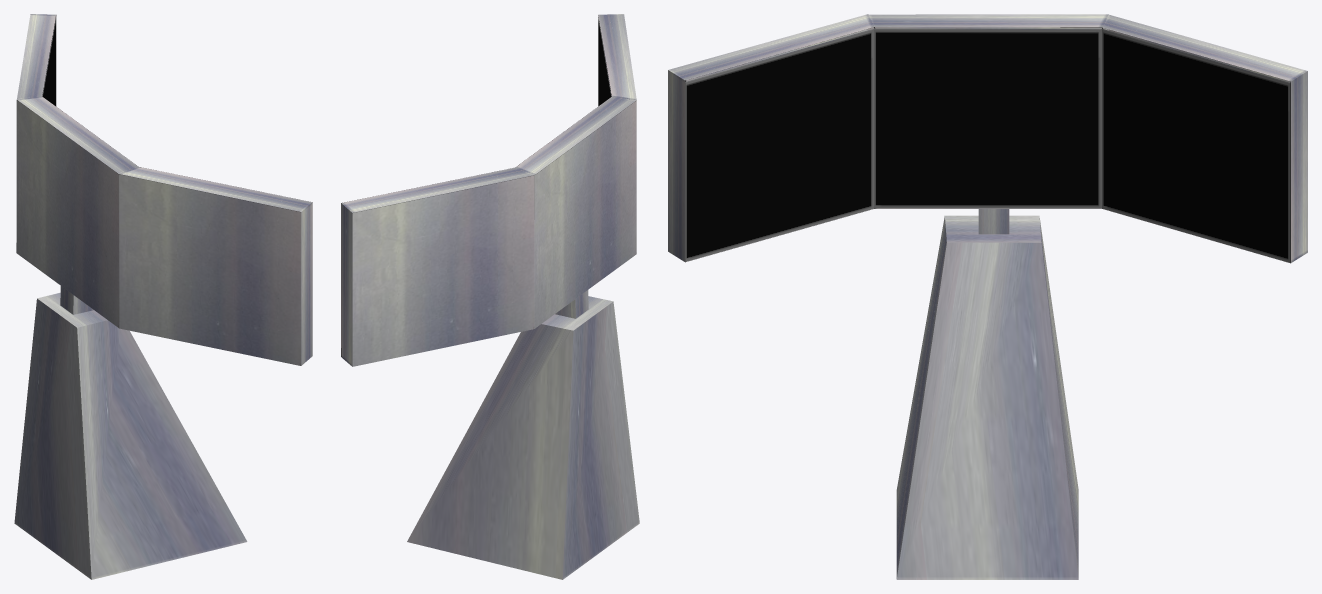
File: mainframe.fbx
3 renders of one model, left to right at view 1: azimuth 30°, elevation 25°; view 2: azimuth 150°, elevation 25°; view 3: azimuth 270°, elevation 25°, orthographic. The views are drawn at different scales.
Parts seen in each view (by area): view 1: polySurface6; view 2: polySurface6; view 3: polySurface6.
Boxes of the visible parts, x1,y1,x2,y2 form: polySurface6: (14, 14, 312, 579); polySurface6: (341, 14, 639, 579); polySurface6: (668, 14, 1307, 579).
Bounding box in the file's own units: 0.5562 × 1.4 × 1.68.
Materials: 2 (2 with a texture image).
